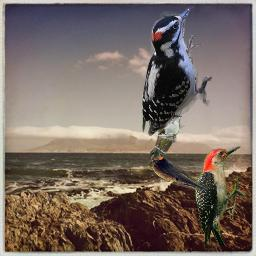Cuckoo: (147, 112, 182, 168)
Swallow: (150, 149, 208, 191)
Woodpecker: (142, 6, 212, 136), (195, 146, 248, 246)
